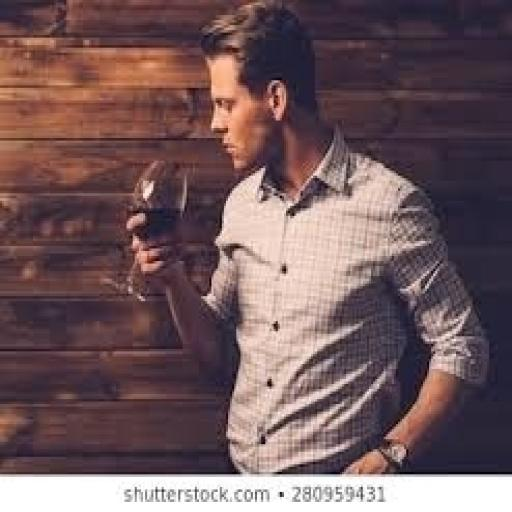drinking: (109, 6, 472, 363)
